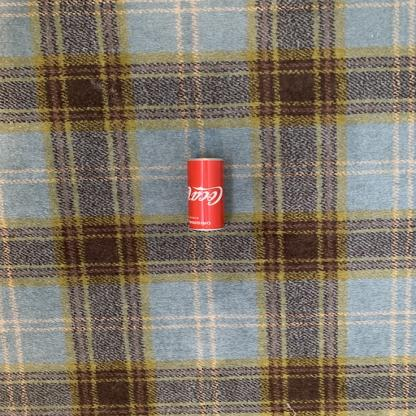trash: (187, 159, 231, 231)
